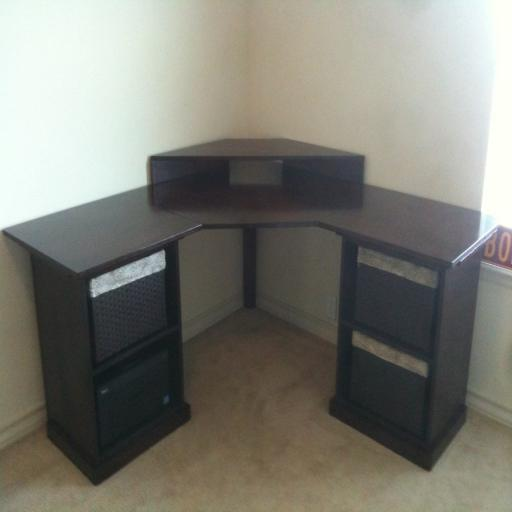desk: (2, 138, 499, 486)
wall: (0, 0, 250, 452), (250, 0, 512, 430)
